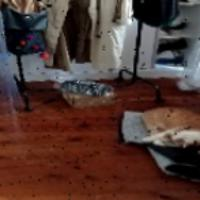asleep: (141, 104, 200, 151)
